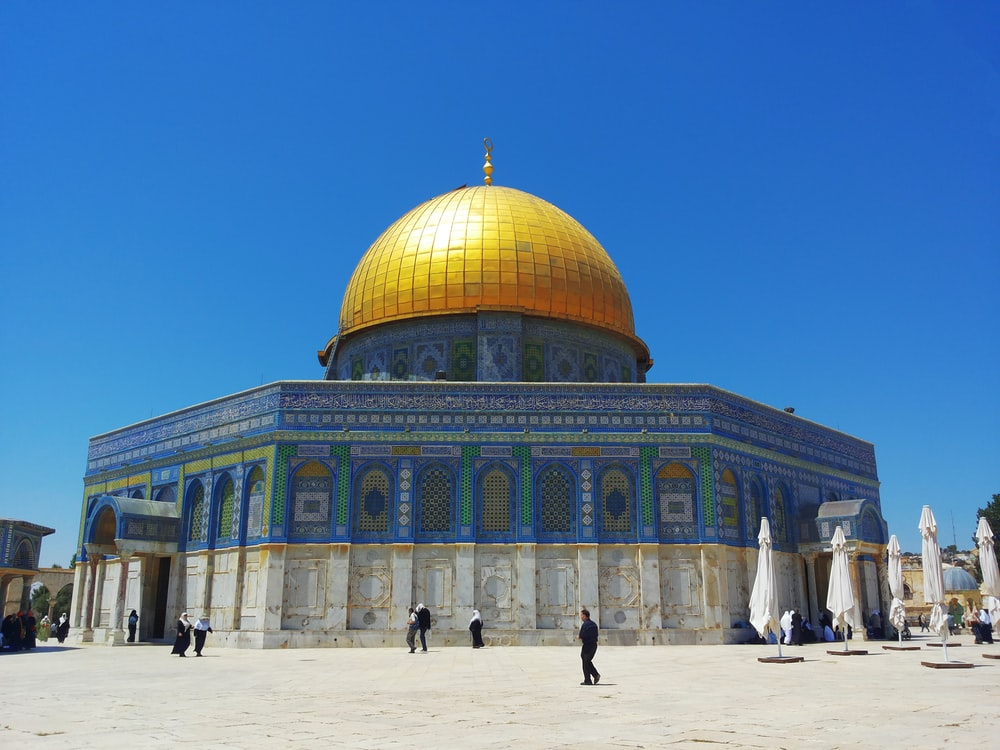Mosque: (55, 152, 919, 619)
